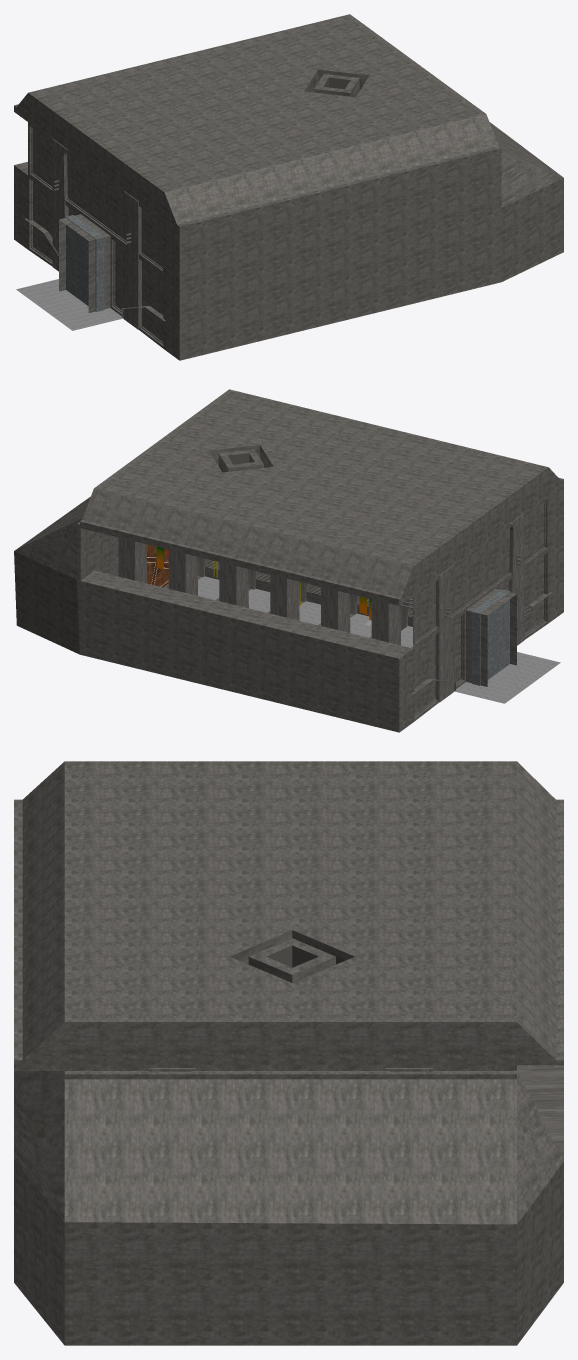
Rendered from intro.gltf.
3 renders of one model, top to bottom at view 1: azimuth 30°, elevation 25°; view 2: azimuth 150°, elevation 25°; view 3: azimuth 270°, elevation 25°, orthographic. The views are drawn at different scales.
Parts seen in each view (by area): view 1: Cube.003, Cube.001 -col, Cube.010, Plane -col; view 2: Cube.003, Cube.001 -col, Plane -col, Cube.010, Cube.002 -col; view 3: Cube.003.
Boxes of the visible parts, bbox=[...] form: Cube.003: bbox=[14, 14, 563, 360]; Cube.001 -col: bbox=[52, 139, 141, 329]; Cube.010: bbox=[65, 215, 104, 311]; Plane -col: bbox=[16, 279, 123, 330]; Cube.003: bbox=[14, 389, 563, 732]; Cube.001 -col: bbox=[118, 513, 524, 702]; Plane -col: bbox=[167, 576, 560, 703]; Cube.010: bbox=[472, 589, 510, 685]; Cube.002 -col: bbox=[205, 560, 551, 693]; Cube.003: bbox=[14, 761, 563, 1345].
Size of the model in its own units: 123 by 42.81 by 77.44.
Materials: 7 (5 with a texture image).
